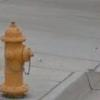Hydrant: (2, 13, 35, 100)
